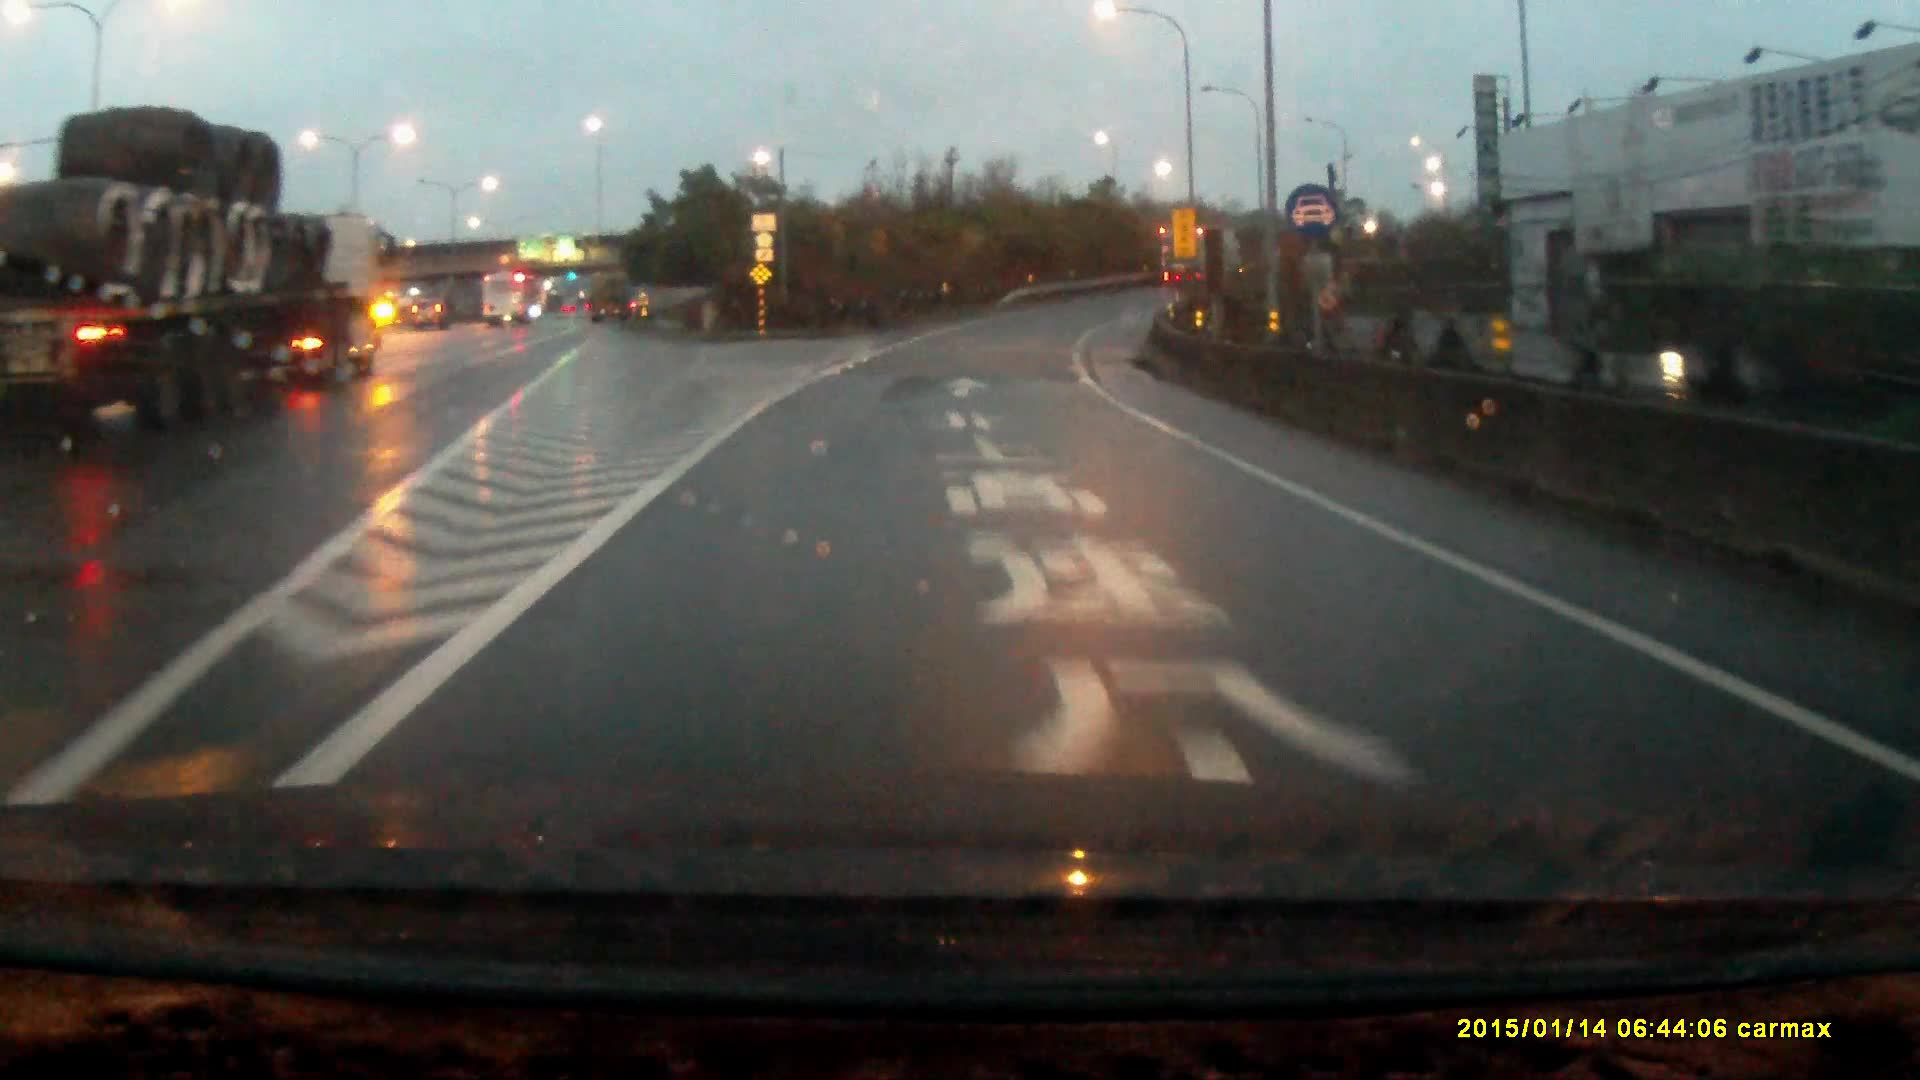vehicle: (1, 112, 382, 438), (483, 276, 543, 331), (411, 297, 450, 334)
